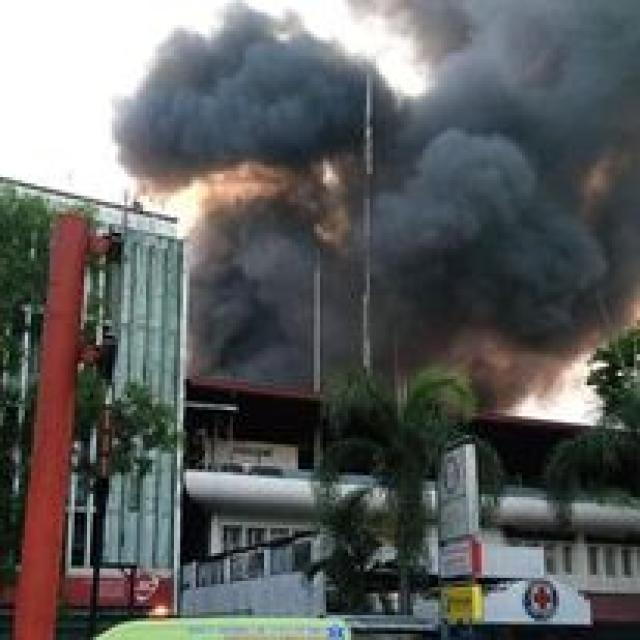Smoke: (126, 0, 640, 418)
